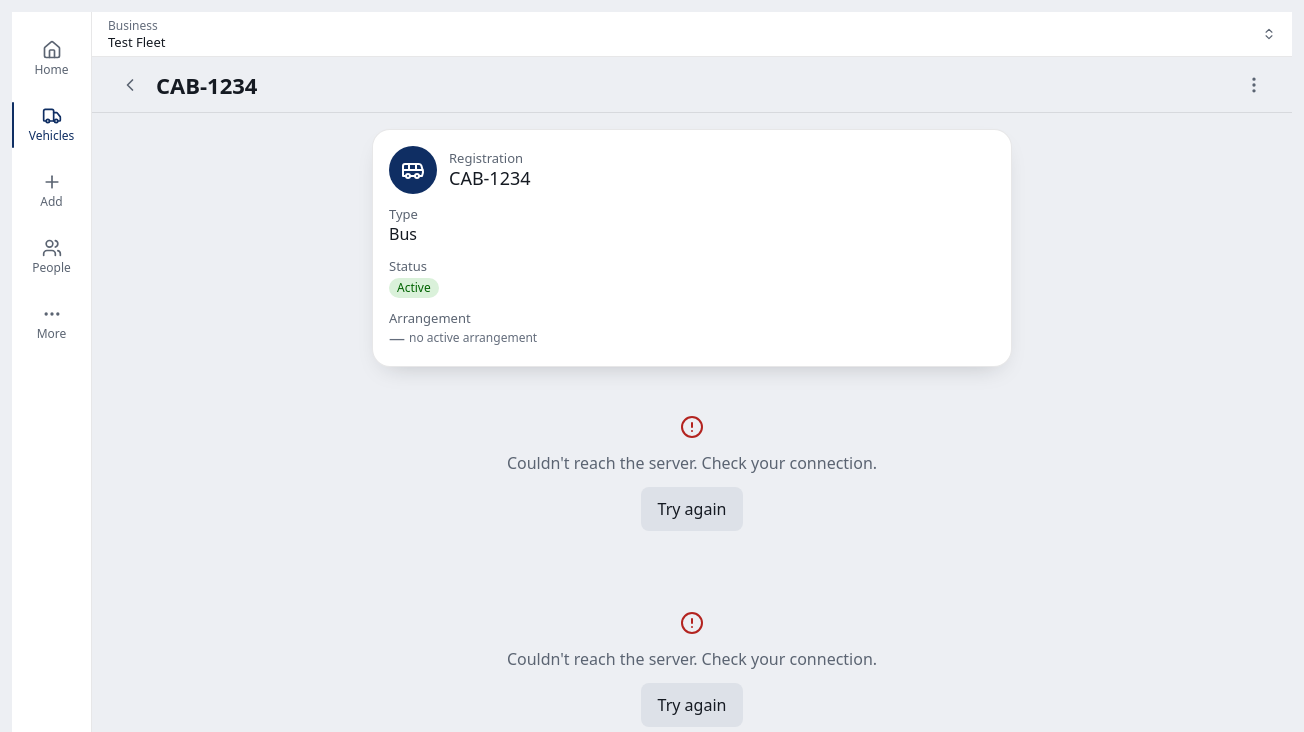
Test: Screen's back button from a vehicle detail returns to the list
This screenshot has width=1304, height=732.
Check: the heading "CAB-1234" is shown, box left=156, top=70, right=257, bottom=98
Click the button named "Back": click(130, 84) left=108, top=62, right=152, bottom=106
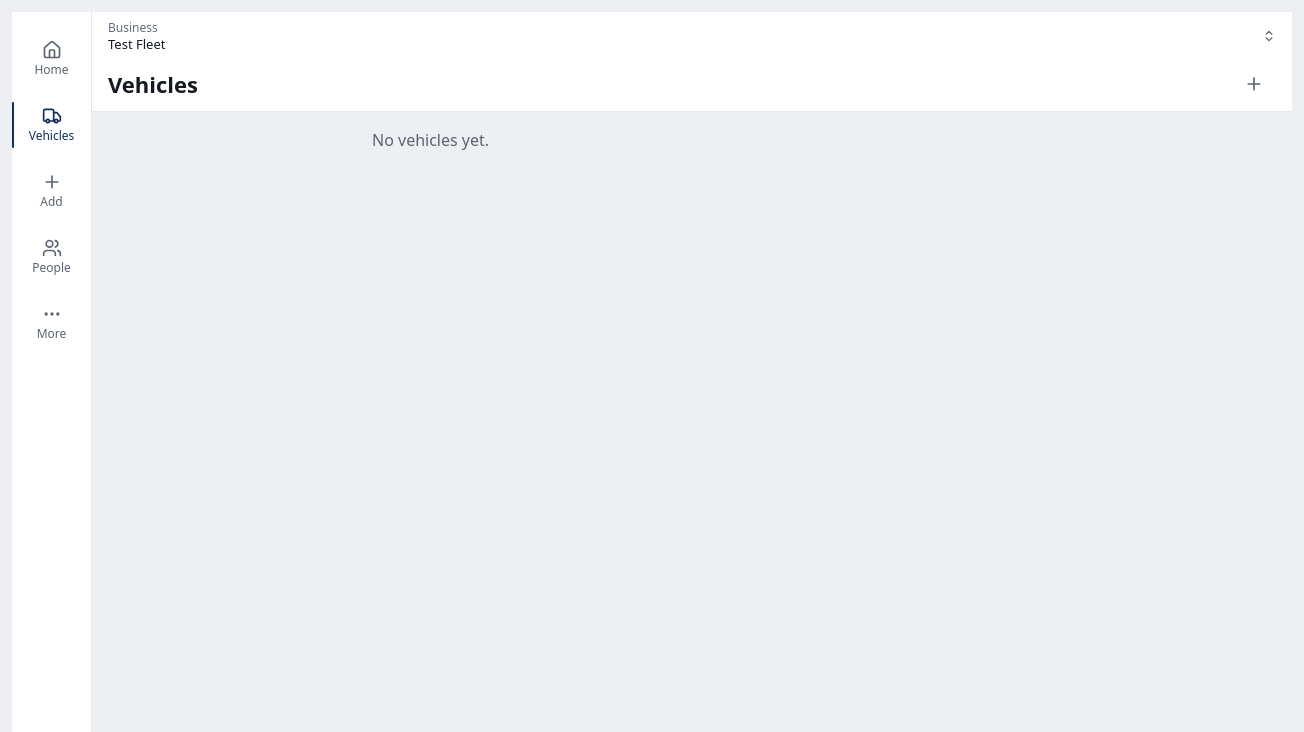
Check: the text "No vehicles yet." is shown, box left=372, top=129, right=489, bottom=151
